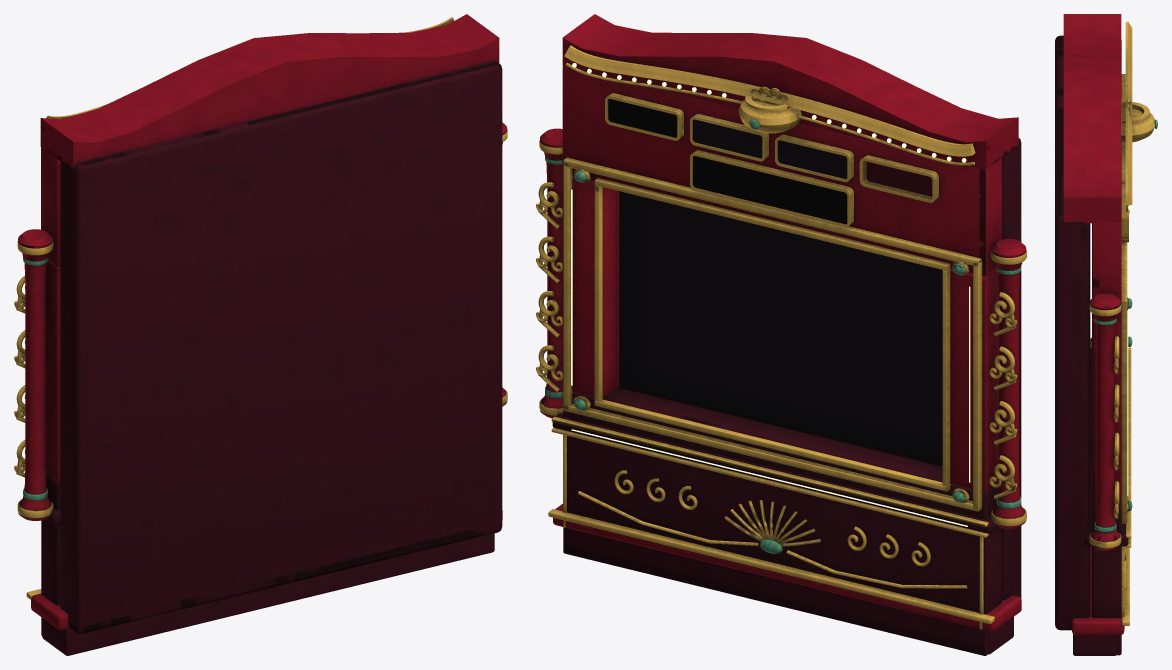
3 views of the same model, side by side, from view 1: azimuth 30°, elevation 25°; view 2: azimuth 150°, elevation 25°; view 3: azimuth 270°, elevation 25° (orthographic). The views are drawn at different scales.
Visible parts, largest first — view 1: Crimson_enamel, Imperial_red_lacquer, Prosperity_polished_gold; view 2: Imperial_red_lacquer, Display_dark_enamel, Crimson_enamel, Prosperity_polished_gold, Warm_bulbs_and_trim_glow, Natural_jade; view 3: Imperial_red_lacquer, Crimson_enamel, Prosperity_polished_gold, Warm_bulbs_and_trim_glow, Natural_jade, Display_dark_enamel.
Boxes of the visible parts, box(x1,y1,x2,y2) form: Crimson_enamel: box(41, 61, 502, 655); Imperial_red_lacquer: box(18, 14, 507, 630); Prosperity_polished_gold: box(14, 17, 507, 599); Imperial_red_lacquer: box(540, 14, 1026, 631); Display_dark_enamel: box(608, 99, 942, 464); Crimson_enamel: box(552, 138, 1021, 655); Prosperity_polished_gold: box(536, 45, 1026, 629); Warm_bulbs_and_trim_glow: box(571, 63, 970, 526); Natural_jade: box(545, 119, 1021, 553); Imperial_red_lacquer: box(1063, 14, 1124, 634); Crimson_enamel: box(1055, 35, 1128, 655); Prosperity_polished_gold: box(1089, 21, 1155, 629); Warm_bulbs_and_trim_glow: box(1127, 205, 1132, 495); Natural_jade: box(1094, 119, 1157, 532); Display_dark_enamel: box(1090, 223, 1090, 491).
Bounding box in the file's own units: 9.66 × 10.4 × 2.01.
6 materials, 5 textured.
